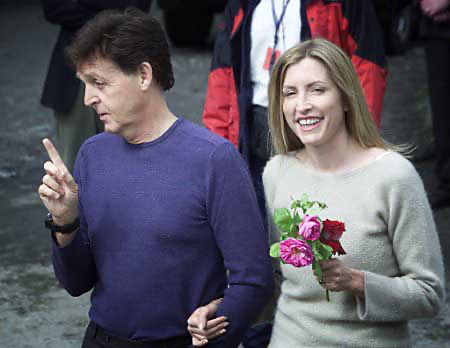Face: (66, 63, 138, 139), (274, 69, 335, 151)
